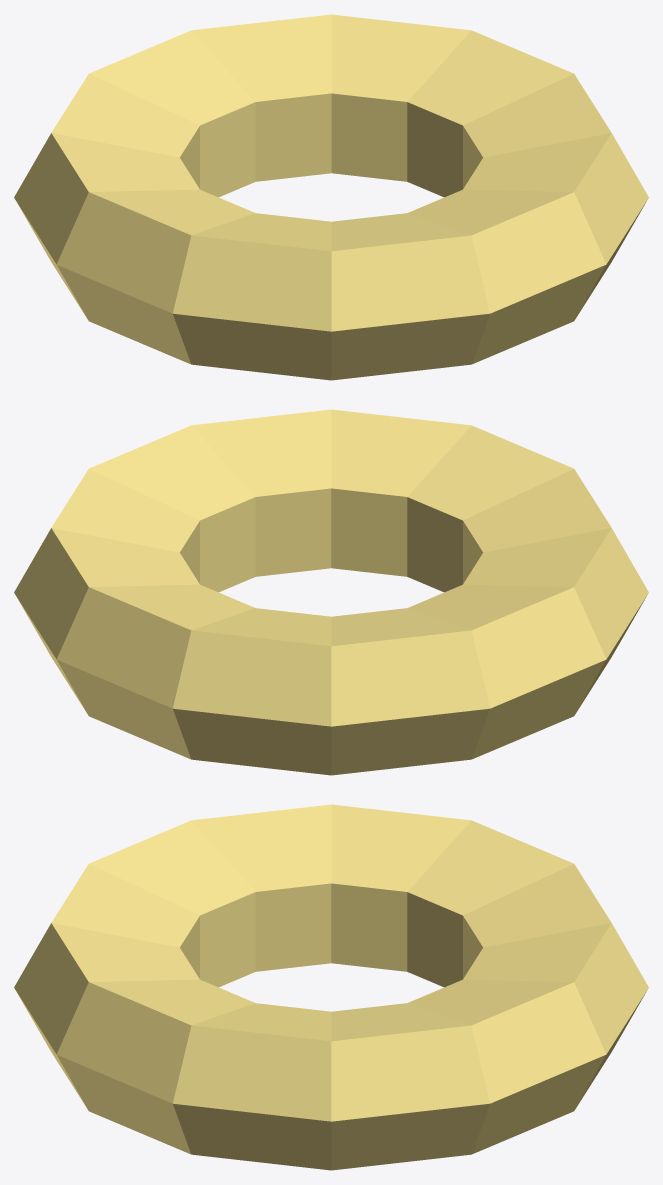
Rendered from Cereal Ring.fbx.
3 views of the same model, one above another, from view 1: azimuth 30°, elevation 25°; view 2: azimuth 150°, elevation 25°; view 3: azimuth 270°, elevation 25° (orthographic).
Parts seen in each view (by area): view 1: Cereal Ring; view 2: Cereal Ring; view 3: Cereal Ring.
Boxes of the visible parts, x1,y1,x2,y2 form: Cereal Ring: (14, 14, 648, 380); Cereal Ring: (14, 409, 648, 775); Cereal Ring: (14, 804, 648, 1170).
Size of the model in its own units: 0.0332 by 0.00746 by 0.0332.
